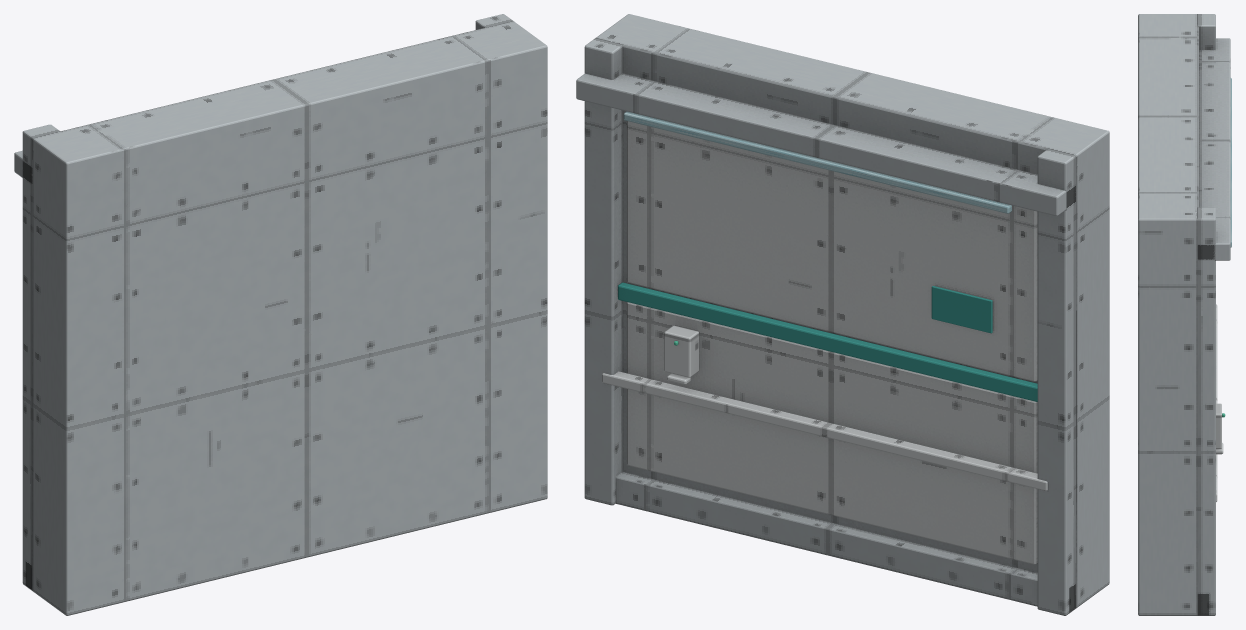
Rendered from base_wall_panel_med.glb.
3 renders of one model, left to right at view 1: azimuth 30°, elevation 25°; view 2: azimuth 150°, elevation 25°; view 3: azimuth 270°, elevation 25°, orthographic. The views are drawn at different scales.
Visible parts, largest first — view 1: base_wall_panel_med.011; view 2: base_wall_panel_med.011; view 3: base_wall_panel_med.011.
Part boxes in pixels (x1,y1,x2,y2): base_wall_panel_med.011: [14, 14, 547, 615]; base_wall_panel_med.011: [576, 14, 1109, 615]; base_wall_panel_med.011: [1138, 14, 1231, 615].
Size of the model in its own units: 4 by 3.6 by 0.77.
7 materials, 7 textured.
